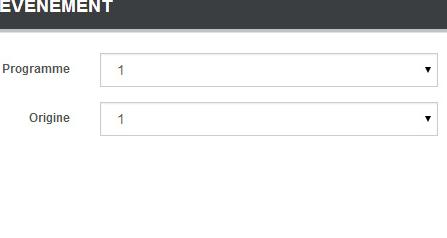field: (98, 99, 441, 139), (96, 51, 440, 87)
field_with_label: (30, 98, 444, 142), (3, 48, 442, 88)
